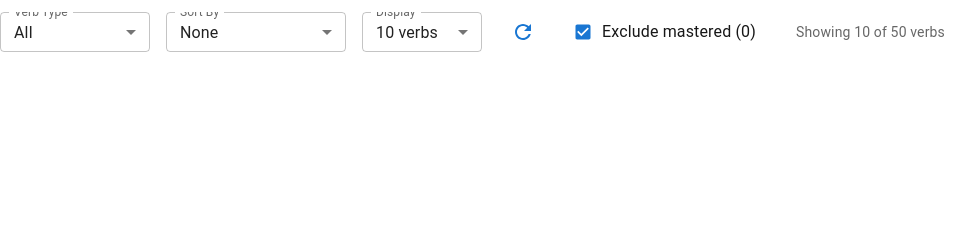
Scenario: FilterControls › Select Options Availability › shows all verb type options when verb type select is opened
Click the dropdown named "Verb Type". click: (23, 32)
box: [14,22,33,42]
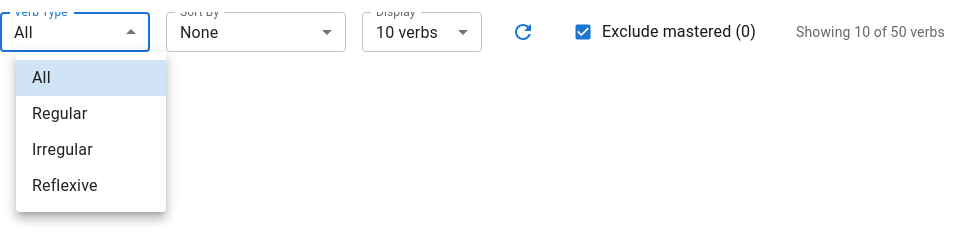
Result: the option "All" is shown at [16,60,166,96]
Result: the option "Regular" is shown at [32,104,87,123]
Result: the option "Irregular" is shown at [32,140,93,159]
